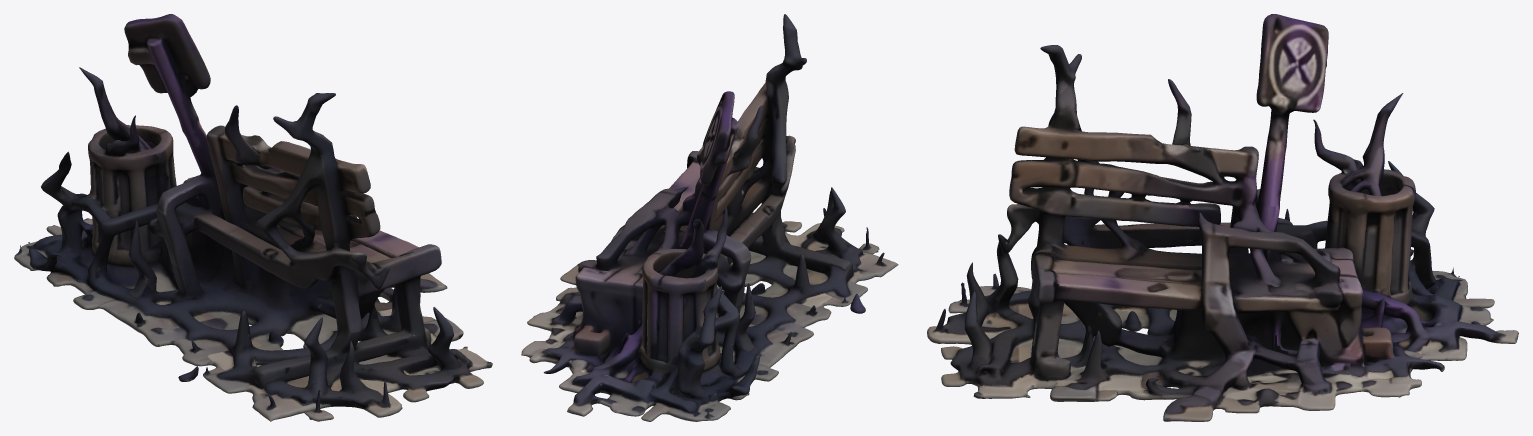
File: SM_Prop_RuinedBench_01.fbx
3 views of the same model, side by side, from view 1: azimuth 30°, elevation 25°; view 2: azimuth 150°, elevation 25°; view 3: azimuth 270°, elevation 25° (orthographic). The views are drawn at different scales.
Visible parts, largest first — view 1: SM_Prop_RuinedBench_01; view 2: SM_Prop_RuinedBench_01; view 3: SM_Prop_RuinedBench_01.
Part boxes in pixels (<box>): SM_Prop_RuinedBench_01: <box>14,14,492,421</box>; SM_Prop_RuinedBench_01: <box>521,14,898,421</box>; SM_Prop_RuinedBench_01: <box>927,14,1518,421</box>.
Size of the model in its own units: 0.6077 by 0.5542 by 0.9982.
Materials: 1 (1 with a texture image).
